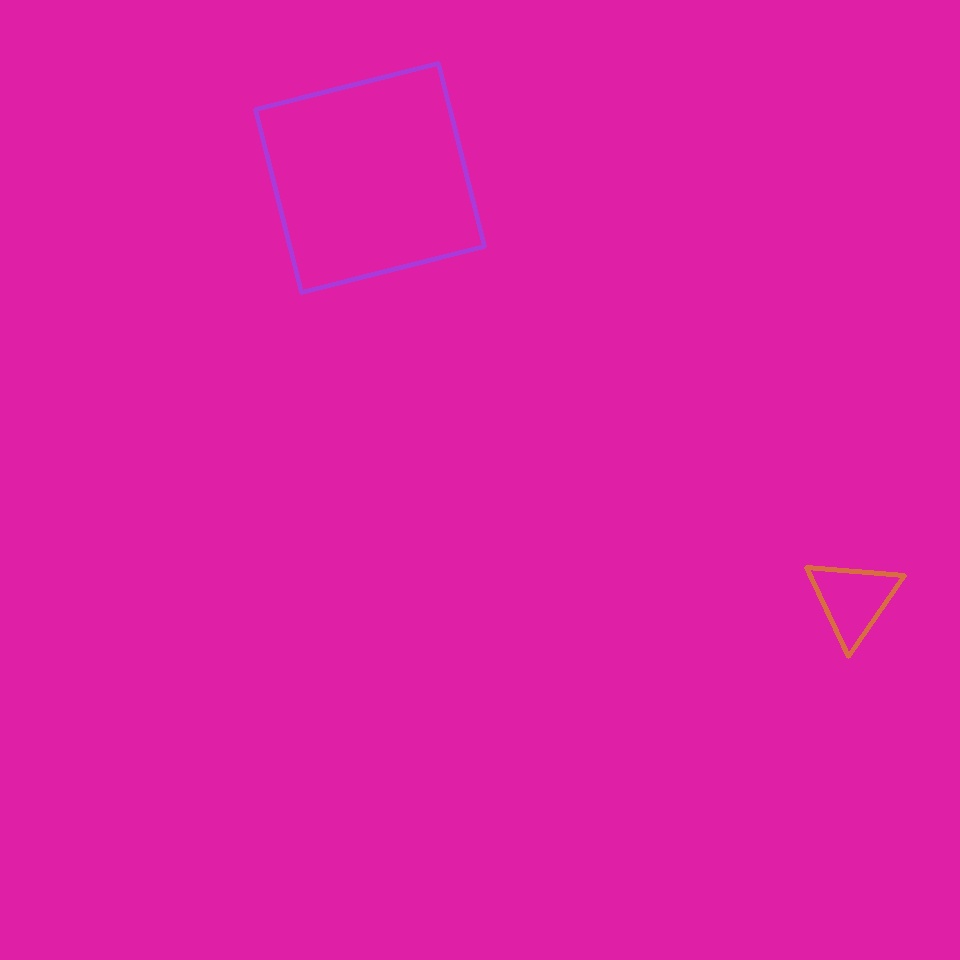circle: (804, 556, 902, 644)
square: (256, 64, 485, 292)
